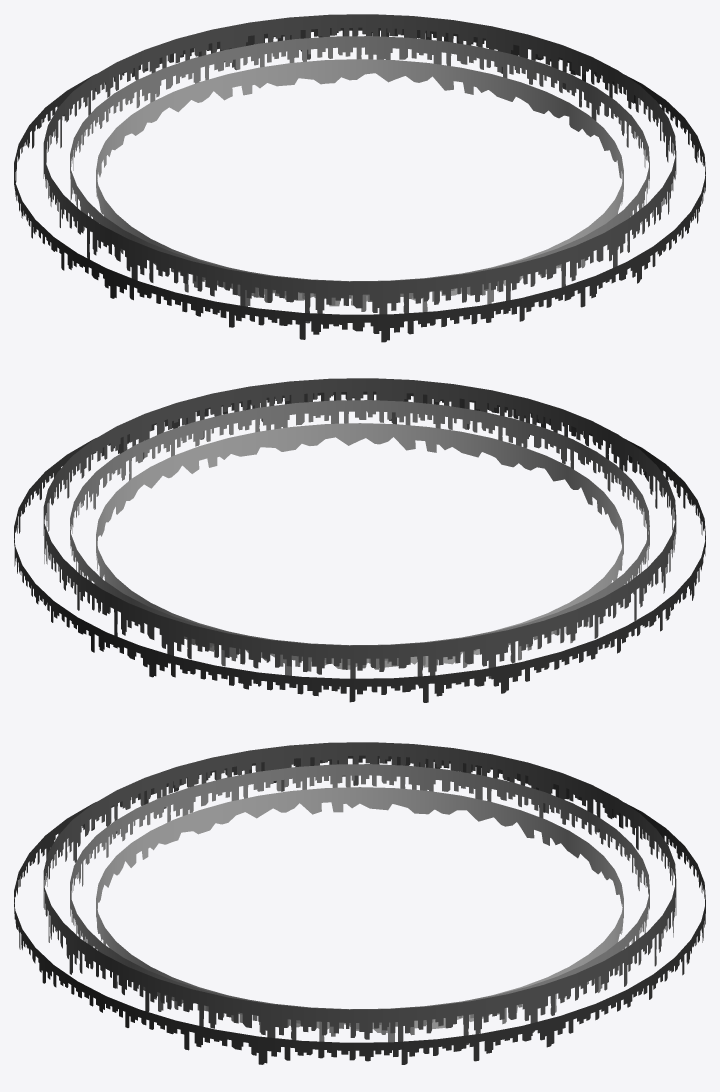
Rendered from SM_Env_Skyline_01.fbx.
The picture shows the model from 3 angles, top to bottom: view 1: azimuth 30°, elevation 25°; view 2: azimuth 150°, elevation 25°; view 3: azimuth 270°, elevation 25°; orthographic projection.
Parts seen in each view (by area): view 1: SM_Env_Skyline_02, SM_Env_Skyline_03, SM_Env_Skyline_04, SM_Env_Skyline_01; view 2: SM_Env_Skyline_02, SM_Env_Skyline_03, SM_Env_Skyline_04, SM_Env_Skyline_01; view 3: SM_Env_Skyline_02, SM_Env_Skyline_03, SM_Env_Skyline_04, SM_Env_Skyline_01.
Boxes of the visible parts, x1,y1,x2,y2 form: SM_Env_Skyline_02: (43, 14, 676, 323); SM_Env_Skyline_03: (70, 36, 649, 312); SM_Env_Skyline_04: (14, 27, 705, 342); SM_Env_Skyline_01: (96, 59, 623, 306); SM_Env_Skyline_02: (43, 378, 676, 686); SM_Env_Skyline_03: (70, 400, 649, 675); SM_Env_Skyline_04: (14, 391, 705, 702); SM_Env_Skyline_01: (96, 423, 623, 669); SM_Env_Skyline_02: (43, 742, 676, 1044); SM_Env_Skyline_03: (70, 764, 649, 1042); SM_Env_Skyline_04: (14, 755, 705, 1064); SM_Env_Skyline_01: (96, 787, 623, 1032).
Bounding box in the file's own units: 52691 × 4679 × 52691.
